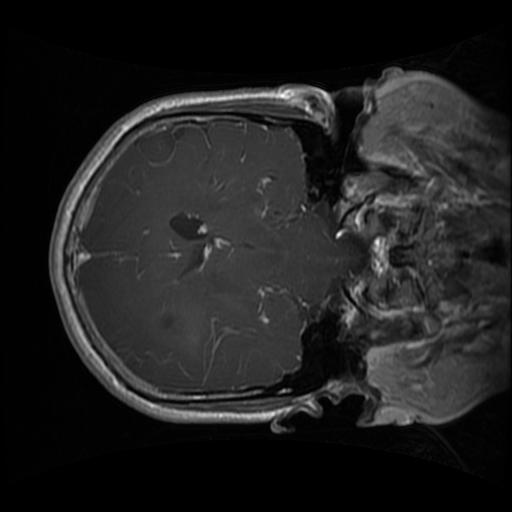glioma: (151, 300, 188, 341)
